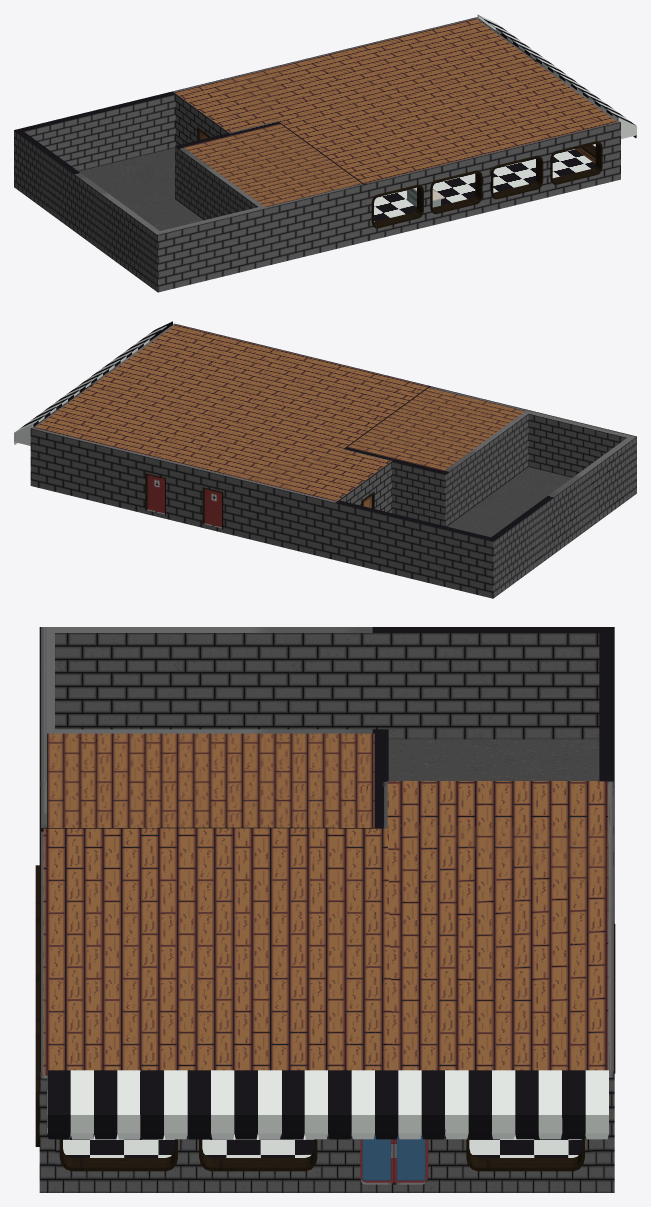
The model's file is ProjetoProntoFINALMENTE.fbx.
The picture shows the model from 3 angles, top to bottom: view 1: azimuth 30°, elevation 25°; view 2: azimuth 150°, elevation 25°; view 3: azimuth 270°, elevation 25°; orthographic projection. The views are drawn at different scales.
Visible parts, largest first — view 1: Chão cozinha.001, O Cafe, Paredes Back Alley, Chao Escritório.001, Chão Back Alley, Chão cozinha, Janelas, Flanela; view 2: O Cafe, Chão cozinha.001, Paredes Back Alley, Chao Escritório.001, Chão Back Alley, Flanela, Porta Baheiro F, Porta Baheiro M; view 3: Chão cozinha.001, Paredes Back Alley, Flanela, O Cafe, Chao Escritório.001, Chão Back Alley, Janelas, Chão cozinha, Porta do Café.
Part boxes in pixels (box(x1,y1,x2,y2)): Chão cozinha.001: box(174, 18, 616, 183); O Cafe: box(14, 17, 620, 292); Paredes Back Alley: box(24, 94, 257, 220); Chao Escritório.001: box(184, 124, 361, 206); Chão Back Alley: box(79, 148, 203, 230); Chão cozinha: box(374, 149, 595, 221); Janelas: box(371, 141, 602, 228); Flanela: box(477, 14, 636, 138); O Cafe: box(30, 323, 636, 598); Chão cozinha.001: box(35, 324, 428, 501); Paredes Back Alley: box(339, 414, 626, 526); Chao Escritório.001: box(347, 387, 525, 470); Chão Back Alley: box(447, 467, 571, 537); Flanela: box(14, 321, 172, 445); Porta Baheiro F: box(147, 475, 164, 513); Porta Baheiro M: box(204, 489, 221, 527); Chão cozinha.001: box(43, 781, 608, 1075); Paredes Back Alley: box(55, 633, 599, 739); Flanela: box(47, 1070, 608, 1139); O Cafe: box(39, 627, 614, 1192); Chao Escritório.001: box(47, 733, 374, 827); Chão Back Alley: box(388, 739, 599, 780); Janelas: box(35, 865, 584, 1171); Chão cozinha: box(63, 1134, 581, 1157); Porta do Café: box(360, 1134, 428, 1182).
Size of the model in its own units: 3582 by 434 by 1870.
Materials: 16 (16 with a texture image).
